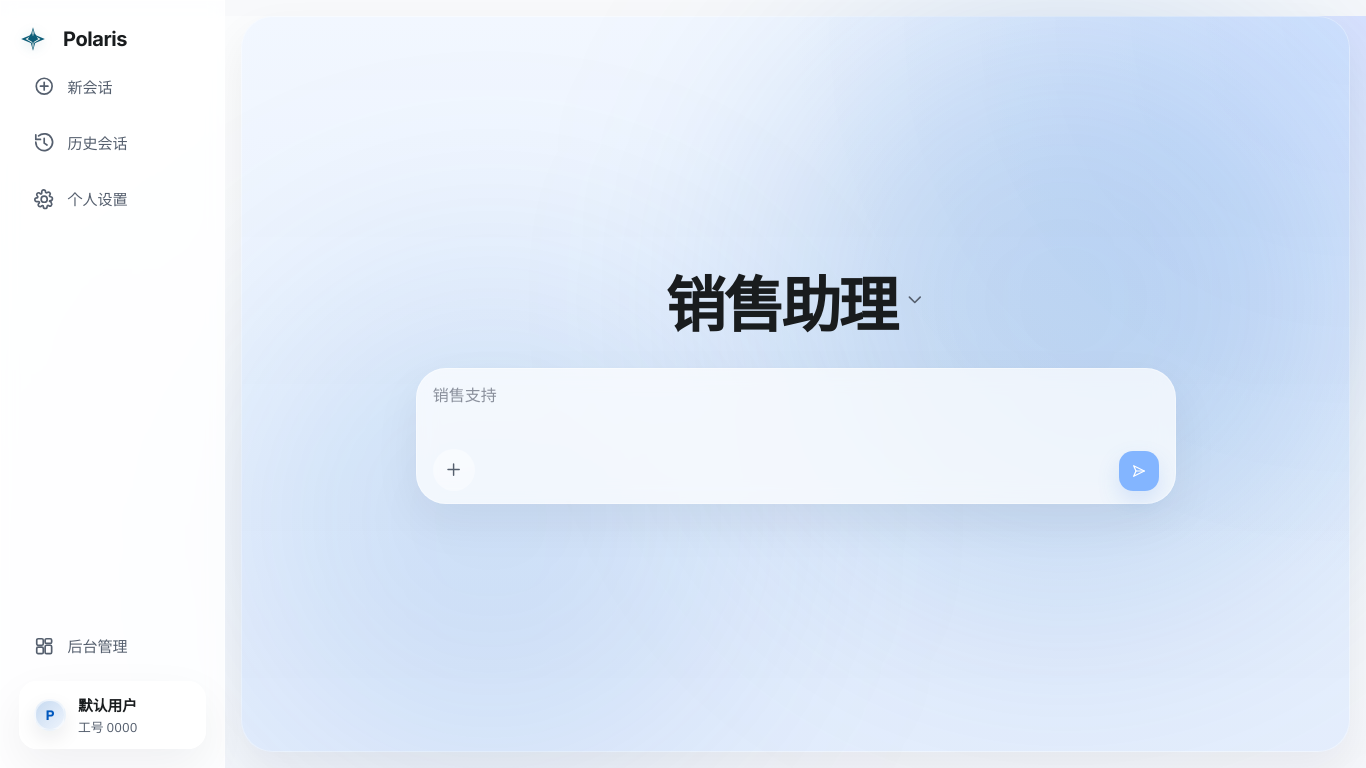
Test: switches to docked composer layout after a conversation starts
The image size is (1366, 768).
Expected: the text "销售助理" is shown, [666,256,896,344]
In the text box with placeholder "销售支持": (796, 408) [433,382,1159,432], type "你好"
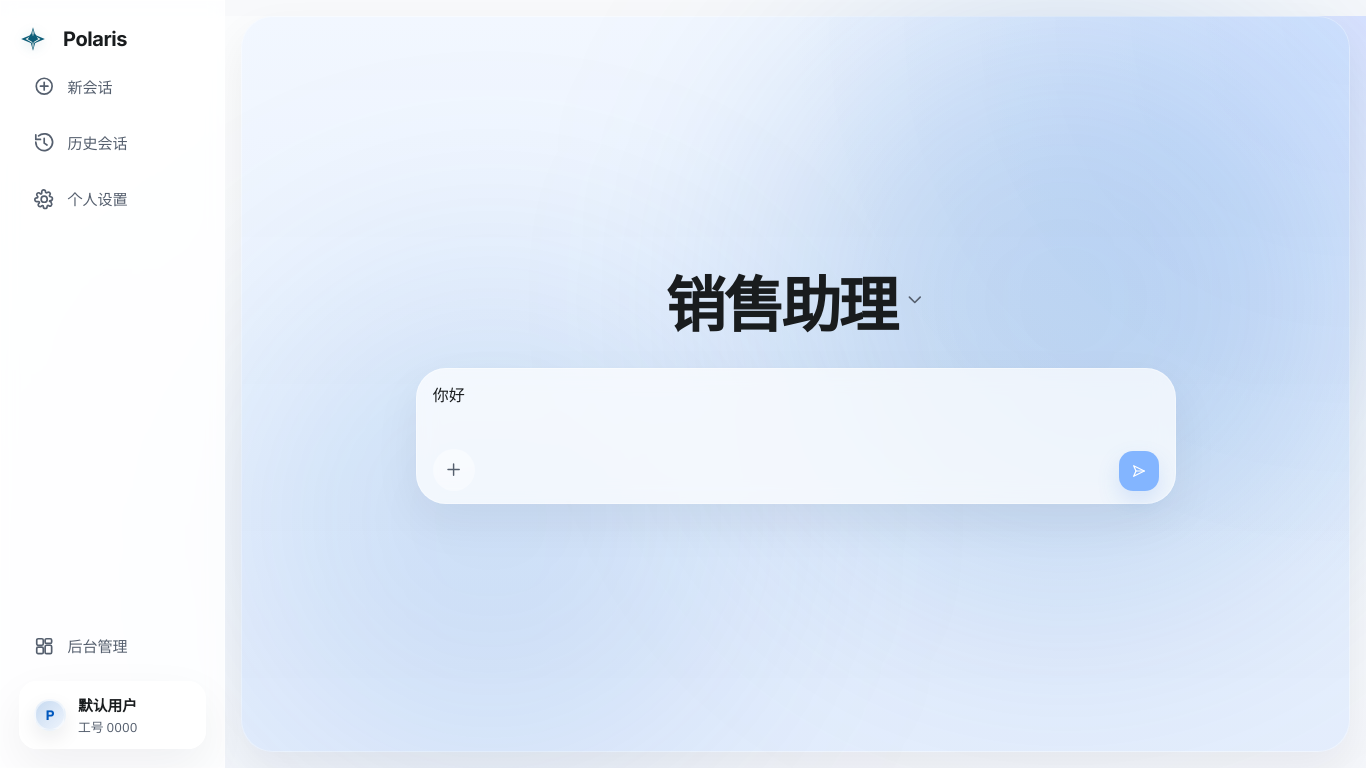
Click the button named "发送": (1139, 470) [1119,450,1159,490]
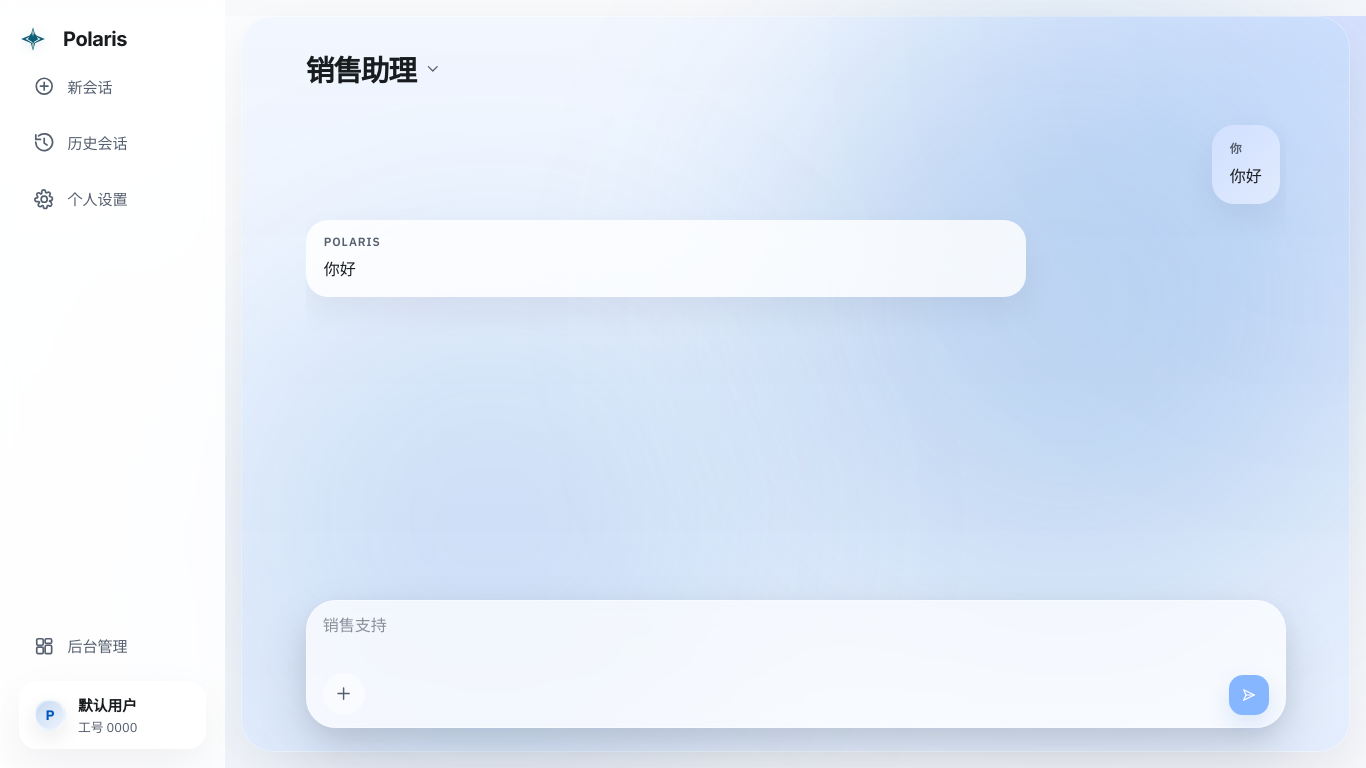
Expected: the number of elements with class "conversation__message" is 2, [1212,125,1280,204]; [306,220,1026,297]
Expected: the element with class "chat-shell__dock" is shown, [306,600,1286,728]
